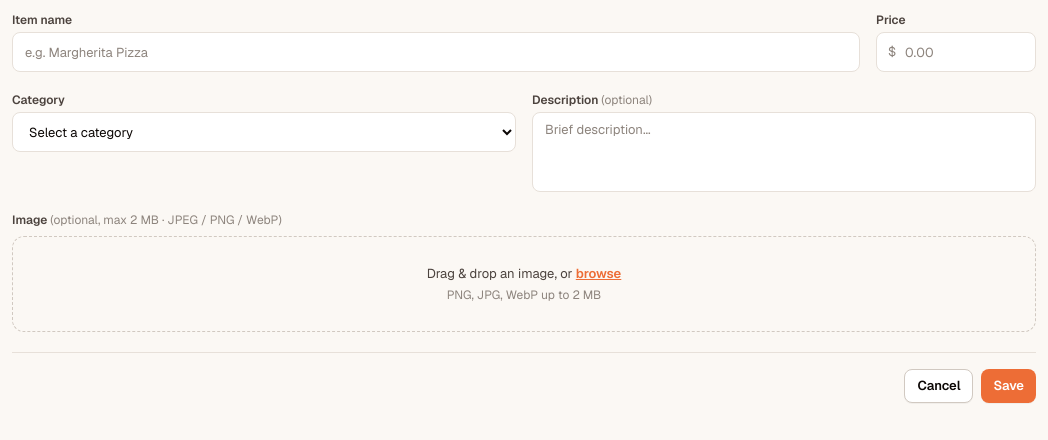
Test: MenuItemForm › price field rejects zero and negative numbers
Step 1. Type "Test Item" into the field labelled "Item name" → (436,52), box left=12, top=32, right=860, bottom=72
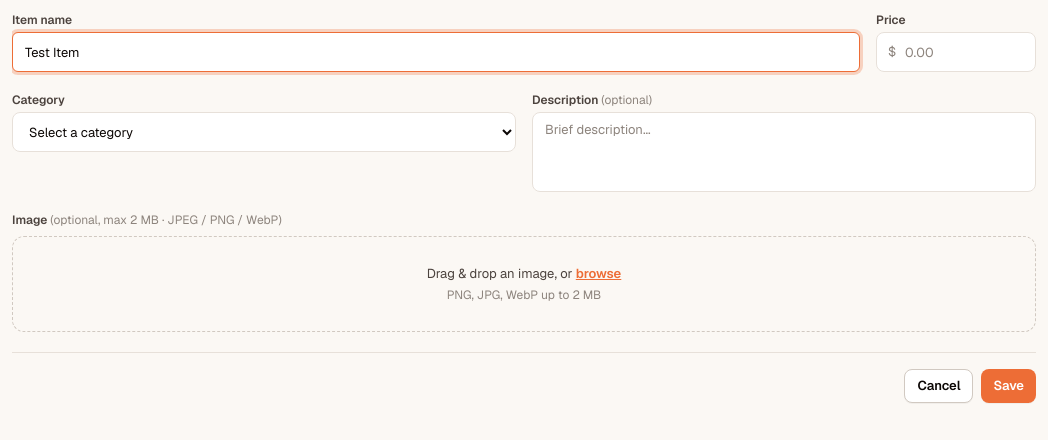
Step 2. Select "MainCourse" in the dropdown labelled "Category" → (264,132), box left=12, top=112, right=516, bottom=152
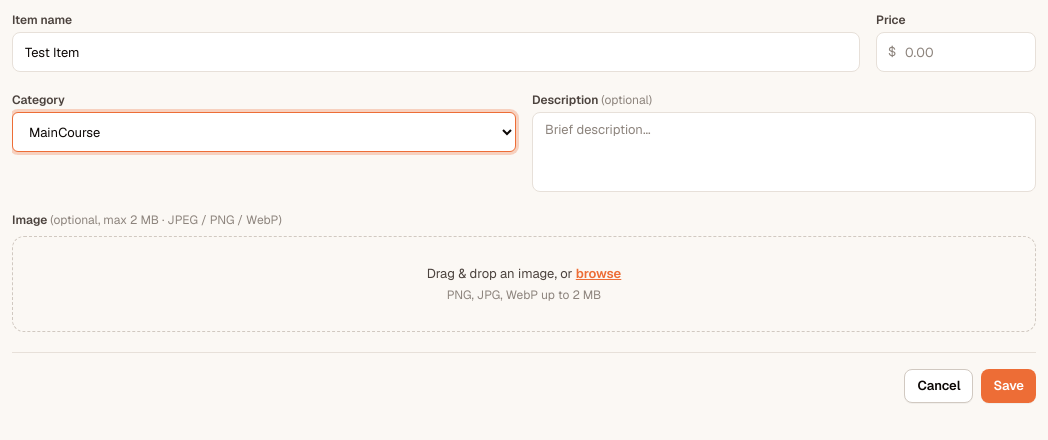
Step 3. Type "0" into the number field labelled "Price" → (956,52), box left=876, top=32, right=1036, bottom=72
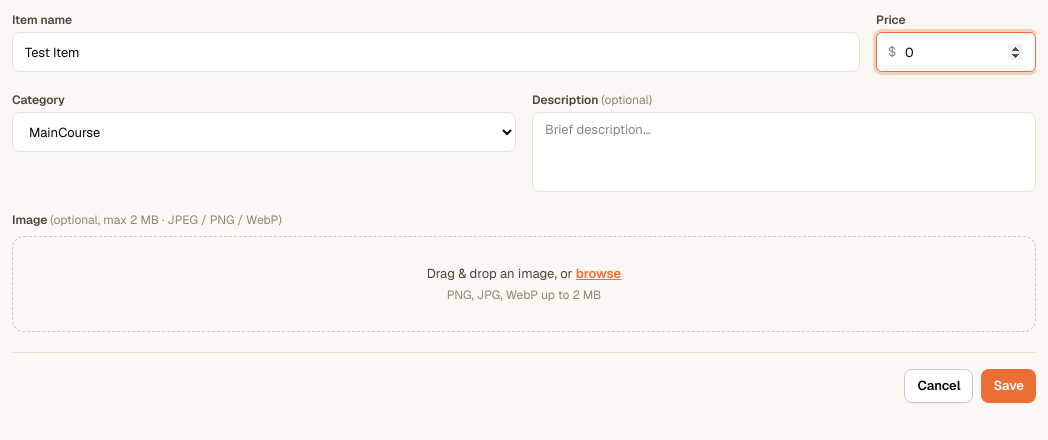
Step 4. Click the button "Save" → (1009,386), box left=981, top=369, right=1036, bottom=403
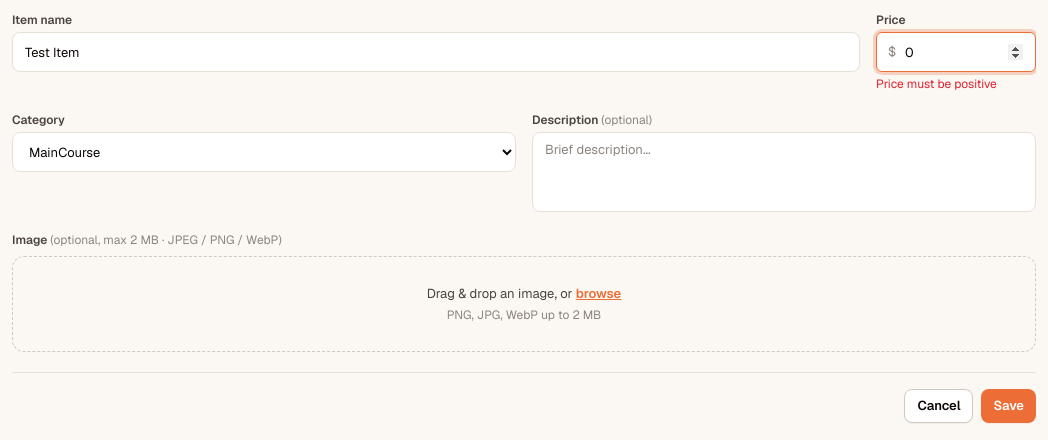
Now the text "Price must be positive" is shown, box left=876, top=76, right=997, bottom=92
